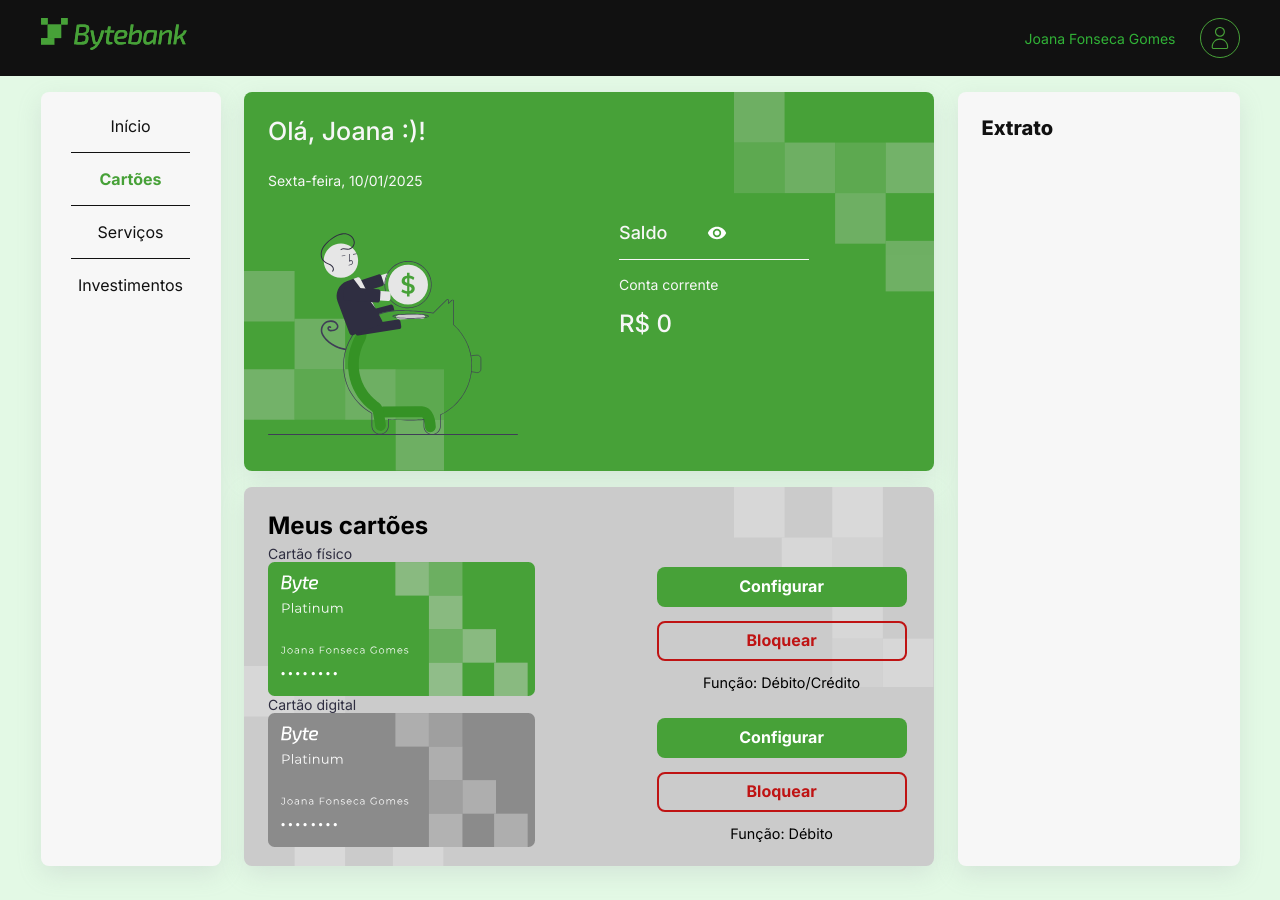
Componente <App /> › Página de investimentos › Deve clicar no link para a página de investimentos e ser redirecionado
The image size is (1280, 900).
Step 1. Click the link "Investimentos" → {"x": 130, "y": 285}, box [78,275,183,295]
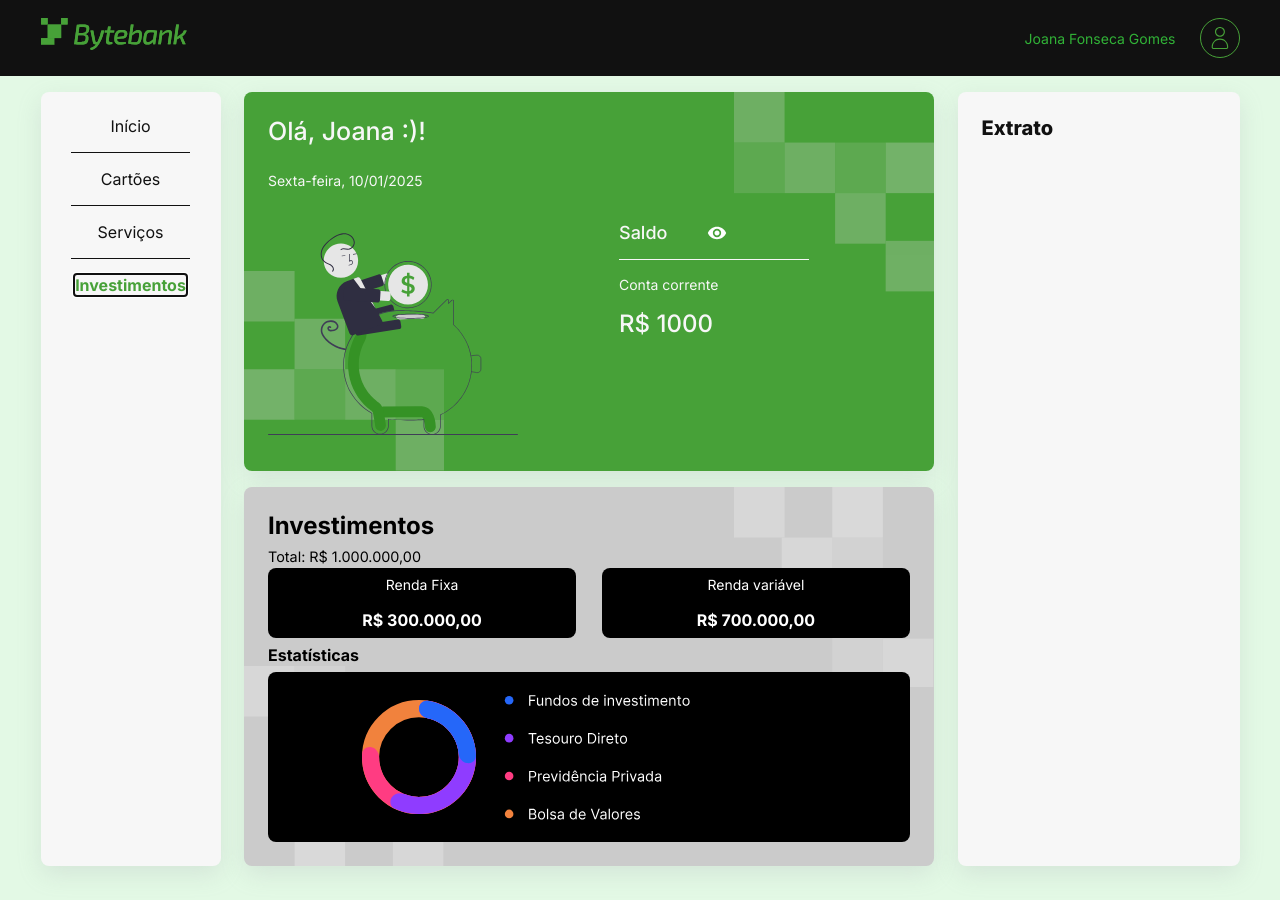
Expected: the heading with test id "titulo-investimentos" reads "Investimentos", [268,511,434,540]
